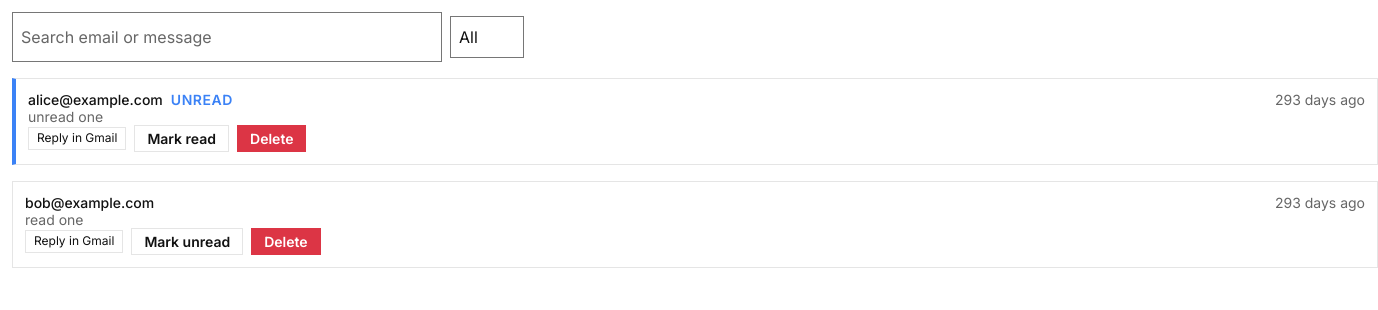
Test: CommentsList — read state › restores the badge and reports an error when the request fails
This screenshot has width=1378, height=310.
Click the button "Mark read" at (182, 138), box top-left (134, 125), bottom-right (229, 152)
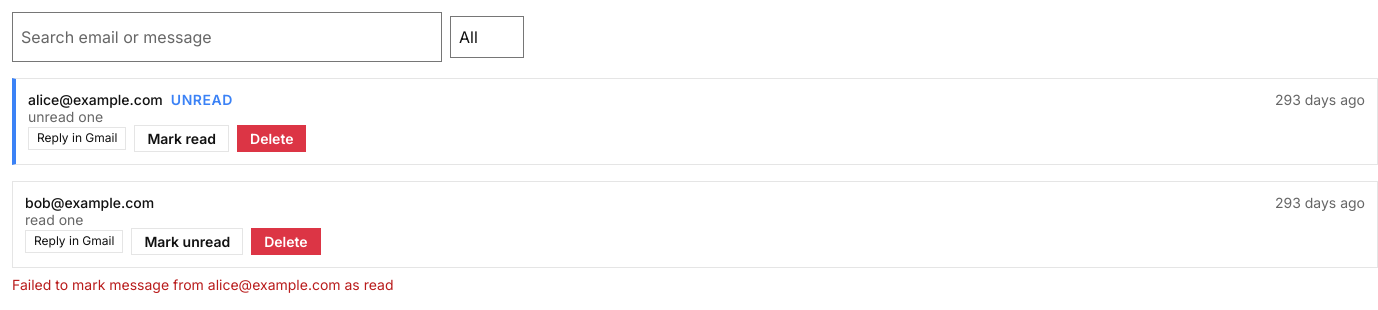
Expected: the text "Unread" is shown once, top-left (171, 91), bottom-right (233, 108)
Result: the text "Failed to mark message from alice@example.com as read" is shown at top-left (12, 276), bottom-right (394, 293)
